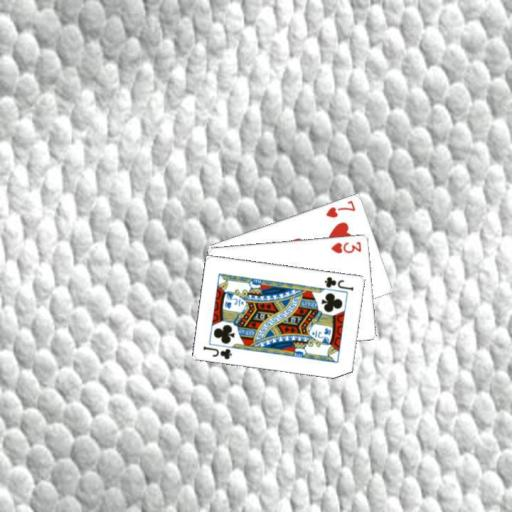3H: (328, 238, 363, 255)
7H: (323, 197, 357, 219)
JC: (322, 273, 356, 292), (201, 343, 233, 361)
